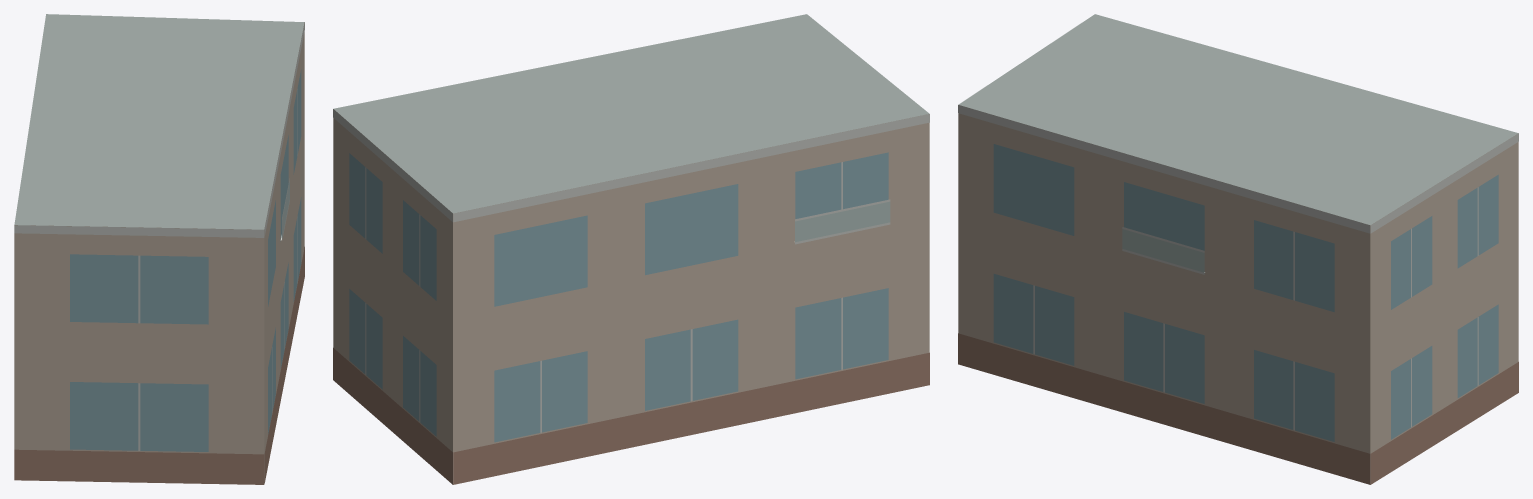
Rendered from survey-upis-32962815.glb.
3 renders of one model, left to right at view 1: azimuth 30°, elevation 25°; view 2: azimuth 150°, elevation 25°; view 3: azimuth 270°, elevation 25°, orthographic. The views are drawn at different scales.
Parts seen in each view (by area): view 1: survey-upis-32962815.tmp; view 2: survey-upis-32962815.tmp; view 3: survey-upis-32962815.tmp.
Boxes of the visible parts, x1,y1,x2,y2 form: survey-upis-32962815.tmp: [14, 14, 304, 484]; survey-upis-32962815.tmp: [333, 14, 929, 484]; survey-upis-32962815.tmp: [958, 14, 1518, 484].
Size of the model in its own units: 13.1 by 7.5 by 14.69.
